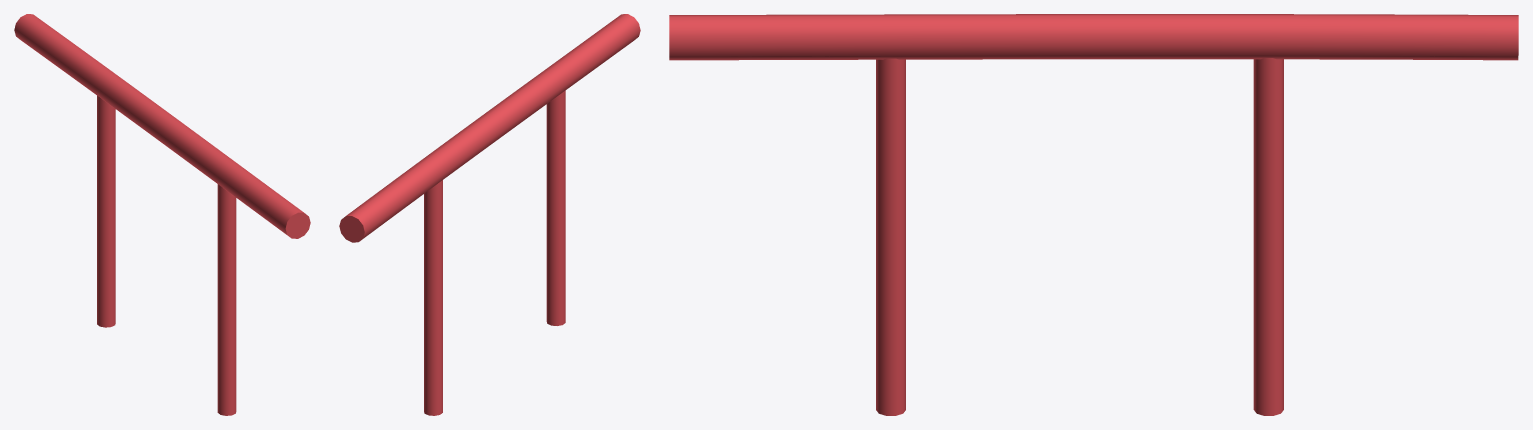
File: rail_top.glb
3 views of the same model, side by side, from view 1: azimuth 30°, elevation 25°; view 2: azimuth 150°, elevation 25°; view 3: azimuth 270°, elevation 25° (orthographic). The views are drawn at different scales.
Parts seen in each view (by area): view 1: Cylinder.025; view 2: Cylinder.025; view 3: Cylinder.025.
Part boxes in pixels (left/top/right/bottom): Cylinder.025: left=14, top=14, right=310, bottom=415; Cylinder.025: left=339, top=14, right=640, bottom=415; Cylinder.025: left=669, top=14, right=1518, bottom=415.
Bounding box in the file's own units: 0.8 × 7.66 × 14.96.
